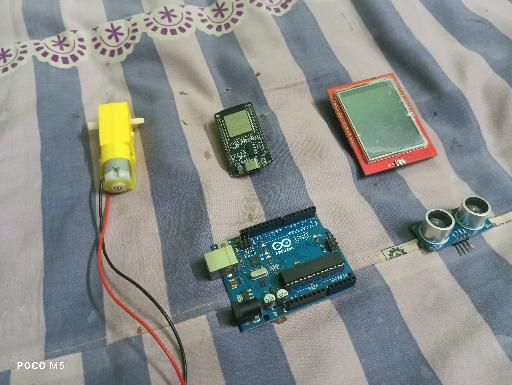Arduino: (204, 205, 358, 334)
Display: (325, 72, 439, 177)
Esp32: (214, 102, 274, 178)
Motor: (87, 102, 146, 194)
sensor: (408, 195, 496, 256)
